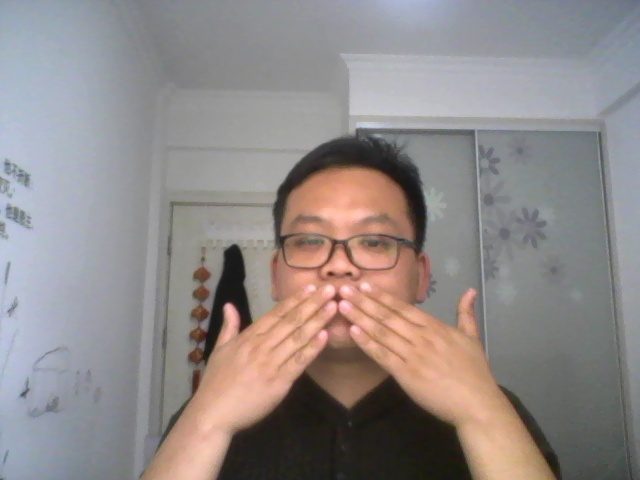Thank You: (181, 277, 512, 433)
